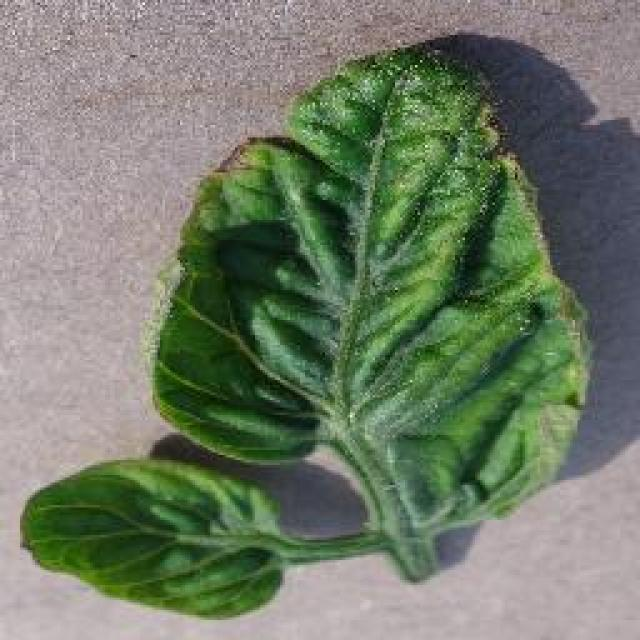Tom_Yellow_Leaf_Curl_Virus: (186, 59, 576, 509)
